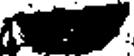Basket: (1, 1, 133, 56)
